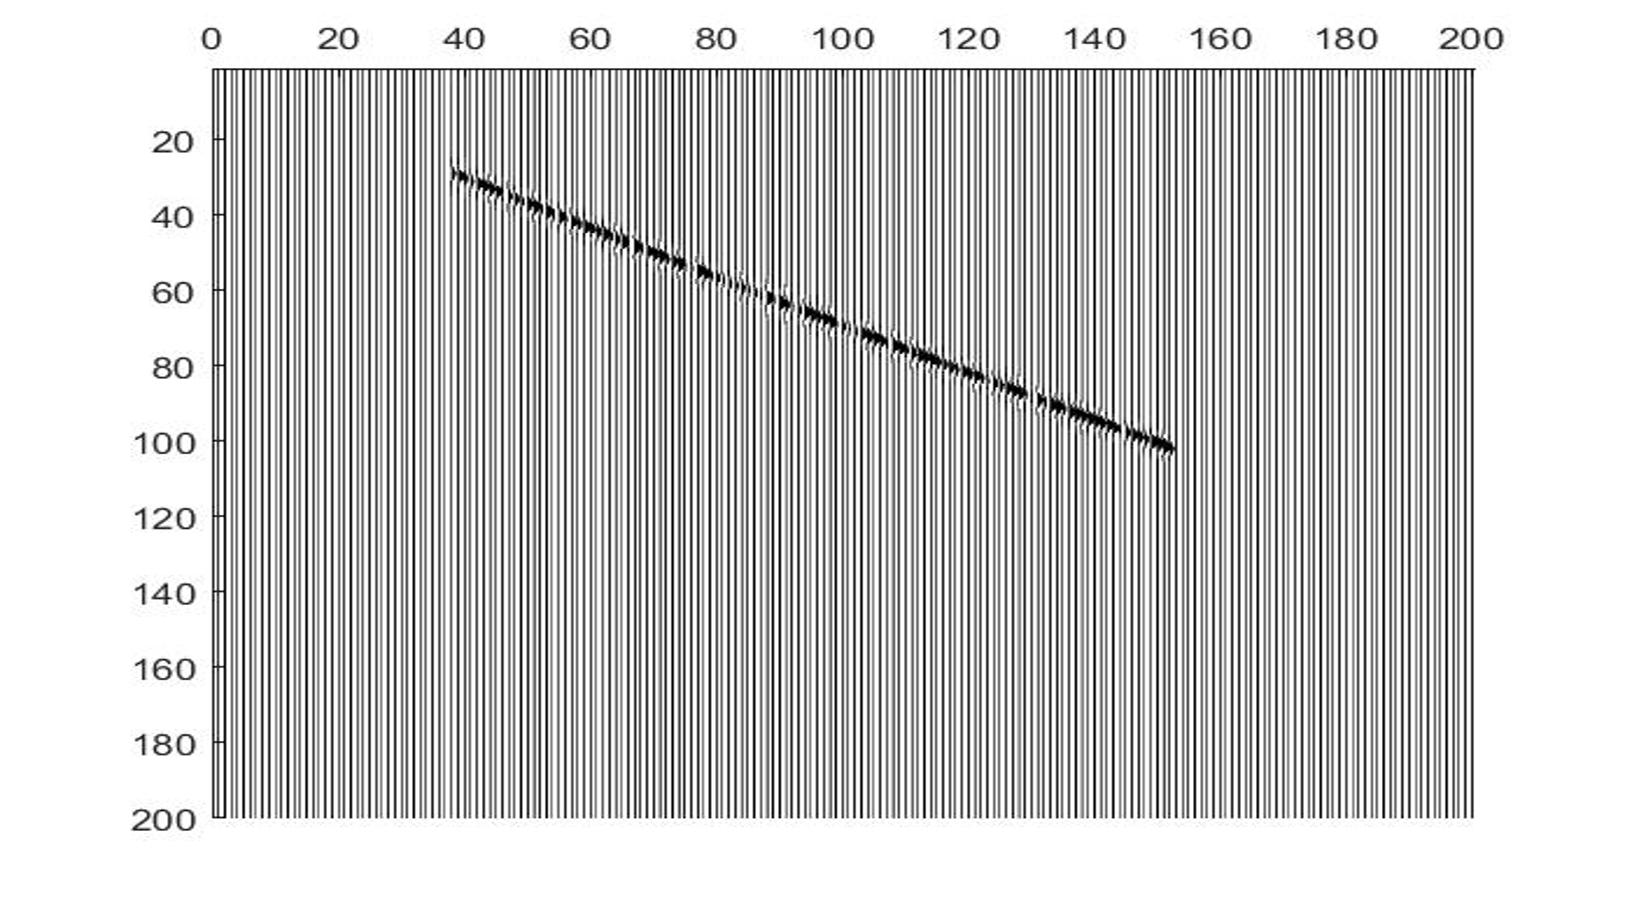signal: (438, 157, 1187, 458)
